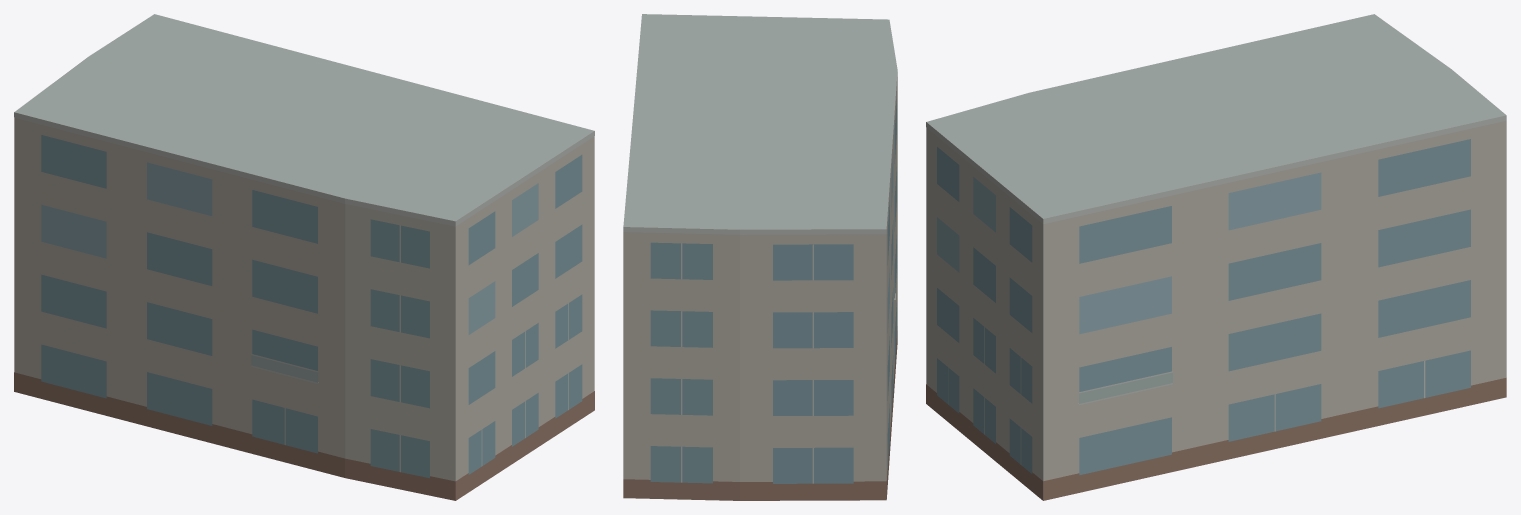
Rendered from survey-upis-32736229.glb.
3 views of the same model, side by side, from view 1: azimuth 30°, elevation 25°; view 2: azimuth 150°, elevation 25°; view 3: azimuth 270°, elevation 25° (orthographic). The views are drawn at different scales.
Parts seen in each view (by area): view 1: survey-upis-32736229.tmp; view 2: survey-upis-32736229.tmp; view 3: survey-upis-32736229.tmp.
Boxes of the visible parts, x1=… form: survey-upis-32736229.tmp: x1=14, y1=14, x2=594, y2=500; survey-upis-32736229.tmp: x1=623, y1=14, x2=897, y2=500; survey-upis-32736229.tmp: x1=926, y1=14, x2=1506, y2=500.
Size of the model in its own units: 20.28 by 13 by 24.27.
